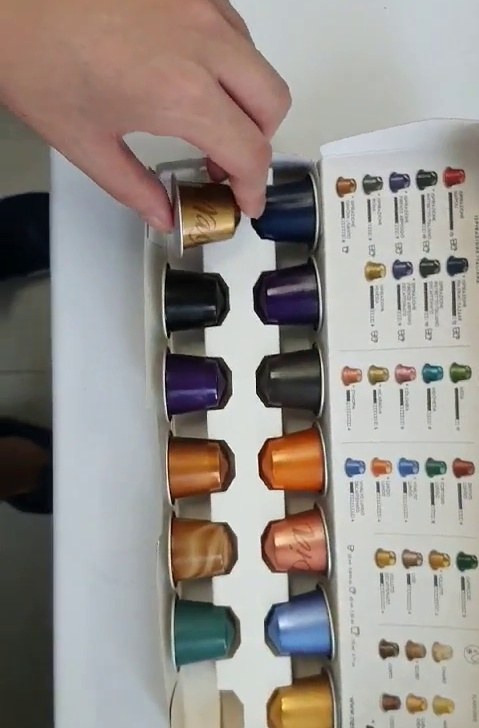capsule_9: (163, 167, 245, 255)
